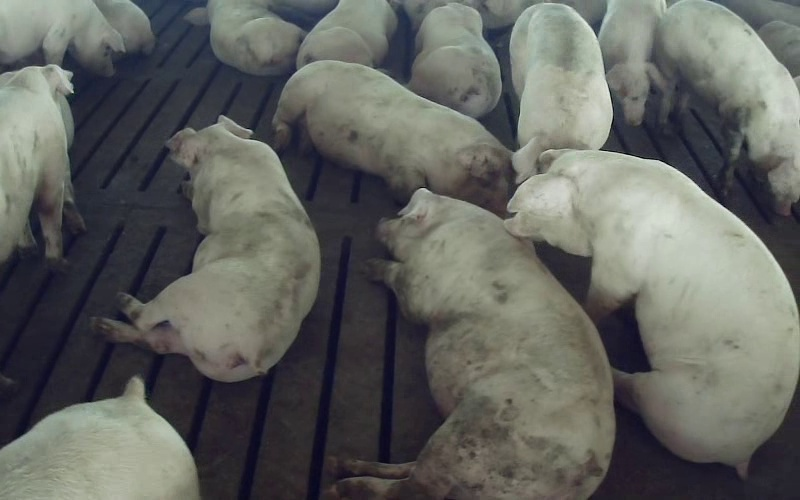pig: (505, 151, 799, 476), (332, 189, 614, 499), (92, 116, 319, 381), (273, 60, 511, 215), (654, 0, 799, 214), (0, 376, 198, 499), (510, 3, 612, 182), (0, 65, 72, 265), (409, 3, 501, 117), (184, 0, 305, 75), (598, 0, 665, 125)
